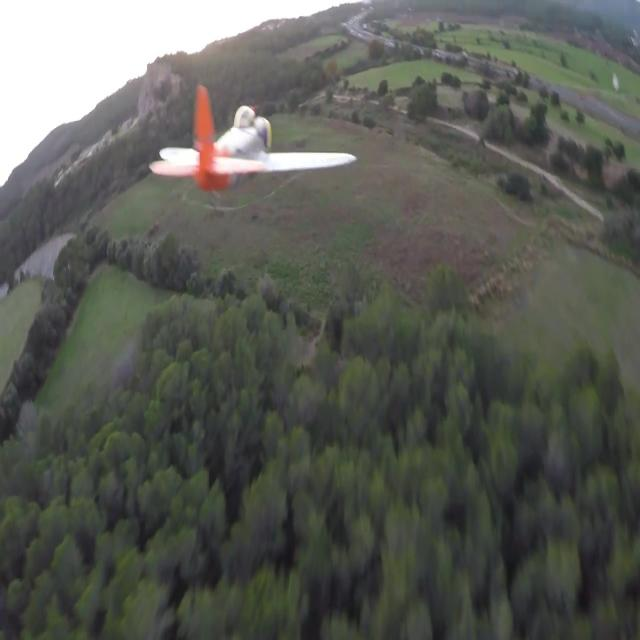iha: (148, 107, 358, 158)
